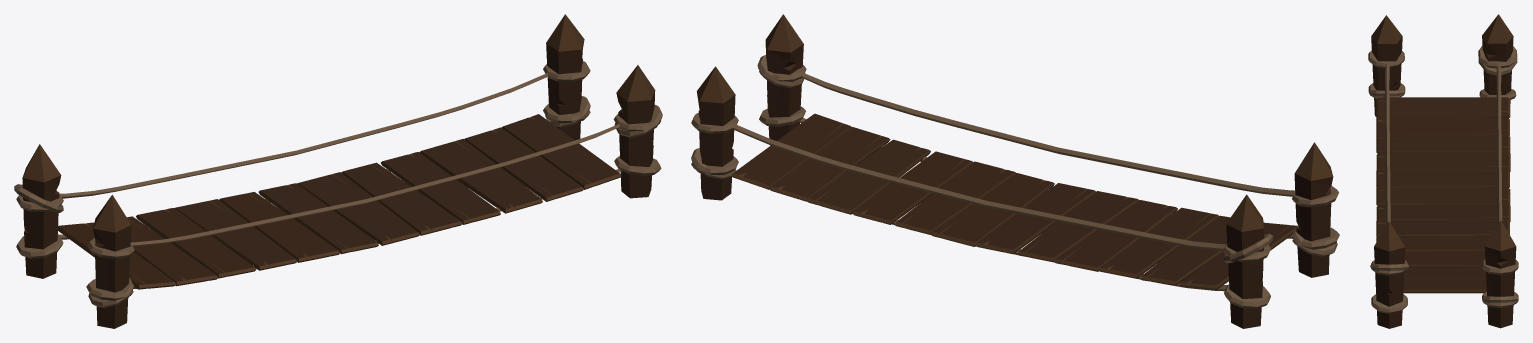
File: Cave_Lair_Wooden_Timber_Suspension_Bridge_01.fbx
3 renders of one model, left to right at view 1: azimuth 30°, elevation 25°; view 2: azimuth 150°, elevation 25°; view 3: azimuth 270°, elevation 25°, orthographic. The views are drawn at different scales.
Visible parts, largest first — view 1: Cave_Lair_Wooden_Timber_Suspension_Bridge_01; view 2: Cave_Lair_Wooden_Timber_Suspension_Bridge_01; view 3: Cave_Lair_Wooden_Timber_Suspension_Bridge_01.
Part boxes in pixels (bbox=[...]): Cave_Lair_Wooden_Timber_Suspension_Bridge_01: bbox=[14, 14, 662, 328]; Cave_Lair_Wooden_Timber_Suspension_Bridge_01: bbox=[691, 14, 1339, 328]; Cave_Lair_Wooden_Timber_Suspension_Bridge_01: bbox=[1368, 14, 1518, 328].
Size of the model in its own units: 14.08 by 3 by 3.99.
